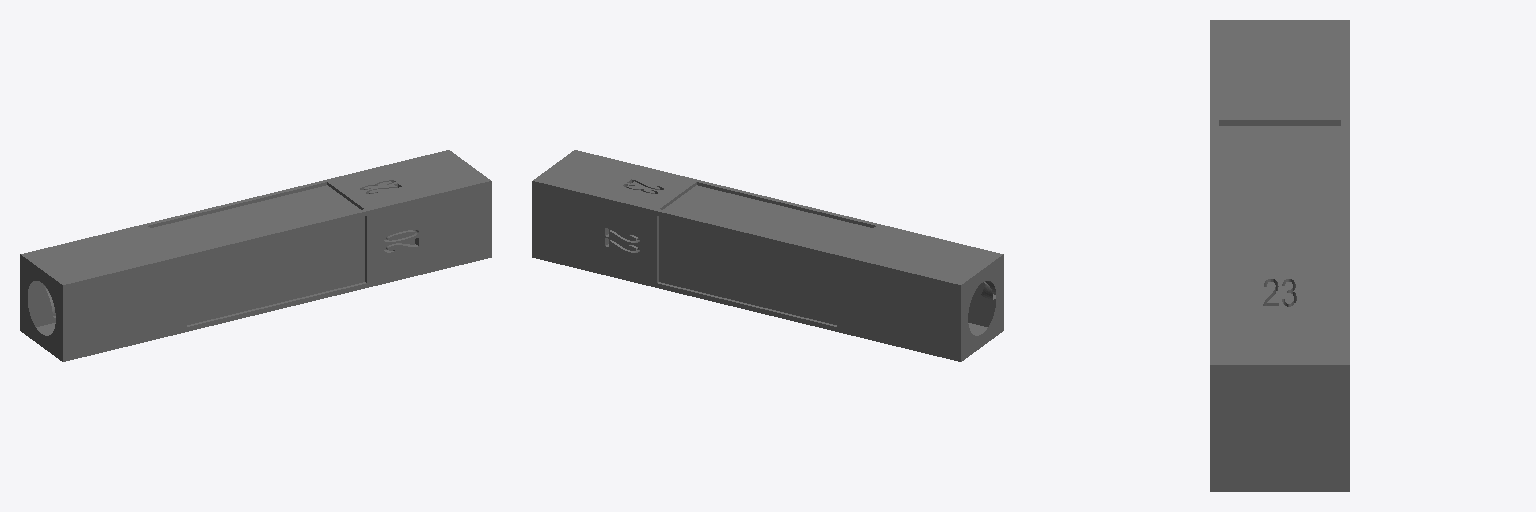
robot.urdf — square_table_leg4_200mm_sdf_hybrid_matchedmass:
<?xml version="1.0" encoding="utf-8"?>
<robot name="square_table_leg4_200mm_sdf_hybrid_matchedmass">
  <link name="base_link">
    <inertial>
      <!-- 200 mm long-body derivative at the source leg's measured density. -->
      <mass value="0.0573543915"/>
      <origin xyz="0.062452768 -0.000004239 0.000000634" rpy="0 0 0"/>
      <inertia
        ixx="7.87658586e-06" ixy="-2.22345998e-08" ixz="4.15344120e-09"
        iyy="1.81694388e-04" iyz="9.28001110e-10" izz="1.81694604e-04"/>
    </inertial>
  </link>

  <material name="thread"><color rgba="0.95 0.55 0.10 1.0"/></material>
  <material name="body"><color rgba="0.50 0.50 0.50 1.0"/></material>

  <link name="thread_link">
    <visual>
      <geometry><mesh filename="square_table_leg4_200mm_thread.obj" scale="1 1 1"/></geometry>
      <material name="thread"/>
    </visual>
    <collision>
      <geometry><mesh filename="square_table_leg4_200mm_thread.obj" scale="1 1 1"/></geometry>
      <sdf resolution="256"/>
    </collision>
  </link>
  <joint name="base_to_thread" type="fixed">
    <parent link="base_link"/>
    <child link="thread_link"/>
  </joint>

  <link name="body_link">
    <visual>
      <geometry><mesh filename="square_table_leg4_200mm_body.obj" scale="1 1 1"/></geometry>
      <material name="body"/>
    </visual>
    <collision><geometry><mesh filename="body_coacd/decomp_0.obj" scale="1 1 1"/></geometry></collision>
    <collision><geometry><mesh filename="body_coacd/decomp_1.obj" scale="1 1 1"/></geometry></collision>
    <collision><geometry><mesh filename="body_coacd/decomp_2.obj" scale="1 1 1"/></geometry></collision>
    <collision><geometry><mesh filename="body_coacd/decomp_3.obj" scale="1 1 1"/></geometry></collision>
    <collision><geometry><mesh filename="body_coacd/decomp_4.obj" scale="1 1 1"/></geometry></collision>
    <collision><geometry><mesh filename="body_coacd/decomp_5.obj" scale="1 1 1"/></geometry></collision>
    <collision><geometry><mesh filename="body_coacd/decomp_6.obj" scale="1 1 1"/></geometry></collision>
    <collision><geometry><mesh filename="body_coacd/decomp_7.obj" scale="1 1 1"/></geometry></collision>
    <collision><geometry><mesh filename="body_coacd/decomp_8.obj" scale="1 1 1"/></geometry></collision>
    <collision><geometry><mesh filename="body_coacd/decomp_9.obj" scale="1 1 1"/></geometry></collision>
    <collision><geometry><mesh filename="body_coacd/decomp_10.obj" scale="1 1 1"/></geometry></collision>
    <collision><geometry><mesh filename="body_coacd/decomp_11.obj" scale="1 1 1"/></geometry></collision>
  </link>
  <joint name="base_to_body" type="fixed">
    <parent link="base_link"/>
    <child link="body_link"/>
  </joint>
</robot>

--- Facts derived from the render (not from the file) ---
The picture shows the robot from 3 angles, left to right: view 1: azimuth 30°, elevation 25°; view 2: azimuth 150°, elevation 25°; view 3: azimuth 270°, elevation 25°; orthographic projection.
Model square_table_leg4_200mm_sdf_hybrid_matchedmass with 3 links and 2 joints (2 fixed), rooted at base_link, posed every joint at zero.
Links seen in each view (by area): view 1: body_link; view 2: body_link; view 3: body_link.
Link boxes in pixels (<box>): body_link: <box>20,150,491,361</box>; body_link: <box>532,150,1003,361</box>; body_link: <box>1210,20,1349,491</box>.
Size in the robot's own frame: 0.175 by 0.03 by 0.03 metres.
1 mesh visuals loaded from 2 distinct referenced files (1 OBJ); not drawn: 1 (reference not matched to a file when rendering).
